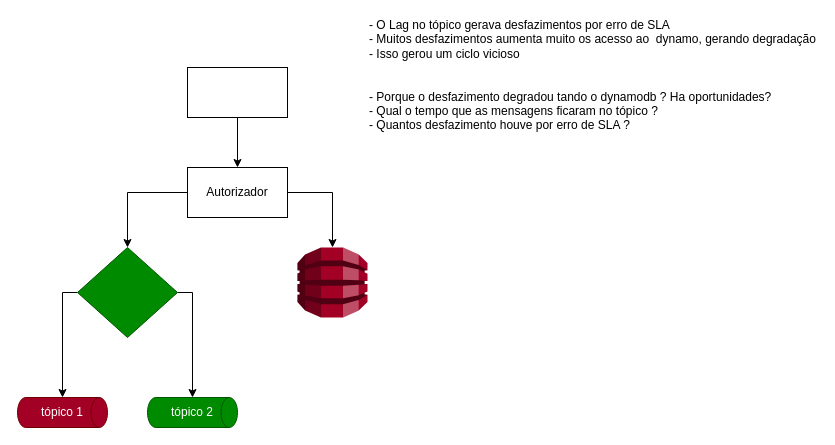
Some shapes in this 835 by 445 pixel diagram are drawn without their labels. Each missing label, with the centre of its shape:
"Formatador" goes at [237,92].
"Latência no tópico > 1000 ms" goes at [127,292].
